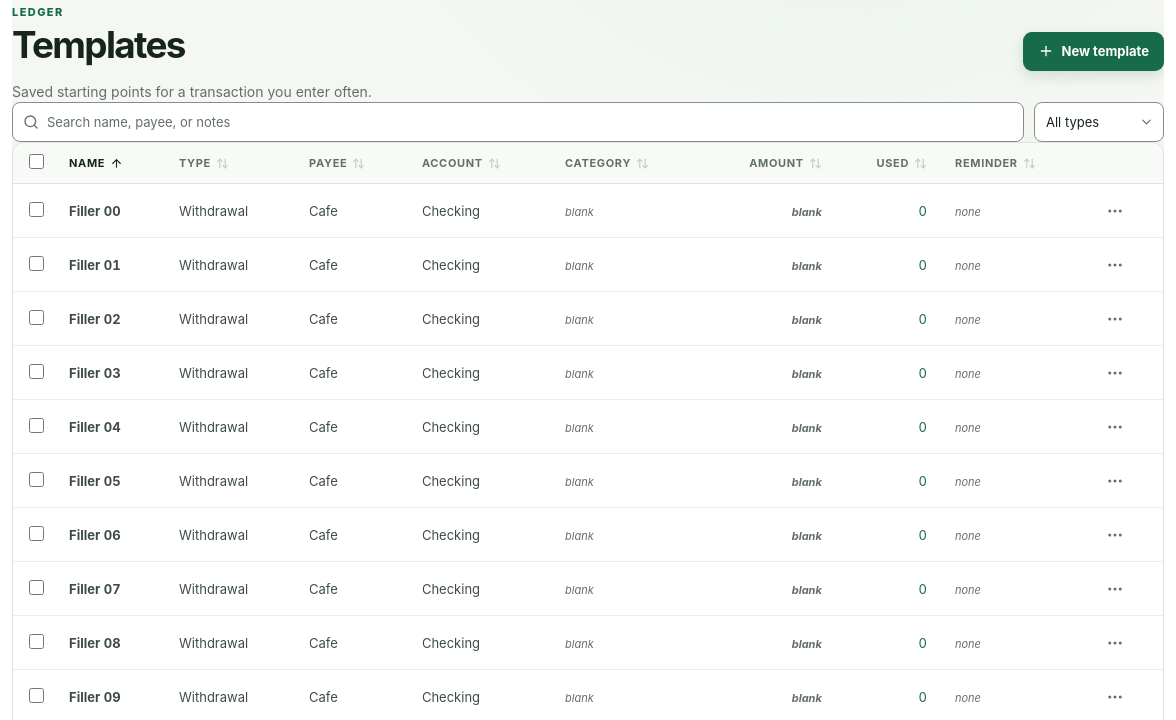
Test case: the templates screen › selects every matching template, not only the ones on this page
The width and height of the screenshot is (1176, 720).
Expected: the heading "Templates" is shown, [12,26,185,65]
Expected: the text "Filler 00" is shown, [69,203,120,219]
What coordinates should you click on to do the following:
click the checkbox named "Select Filler 00"
I would click on:
 (36, 209)
Its box is [28,202,44,217].
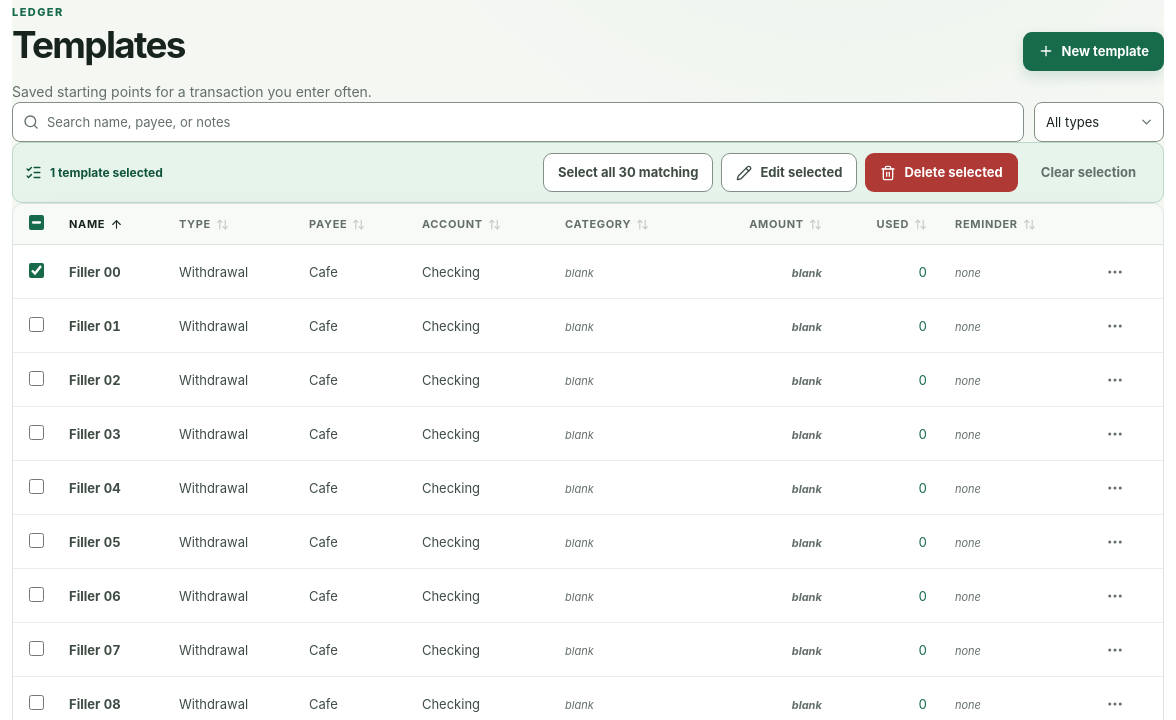
What coordinates should you click on to do the following:
click the button "Select all 30 matching"
I would click on:
 (628, 173)
Its box is [543,153,713,192].
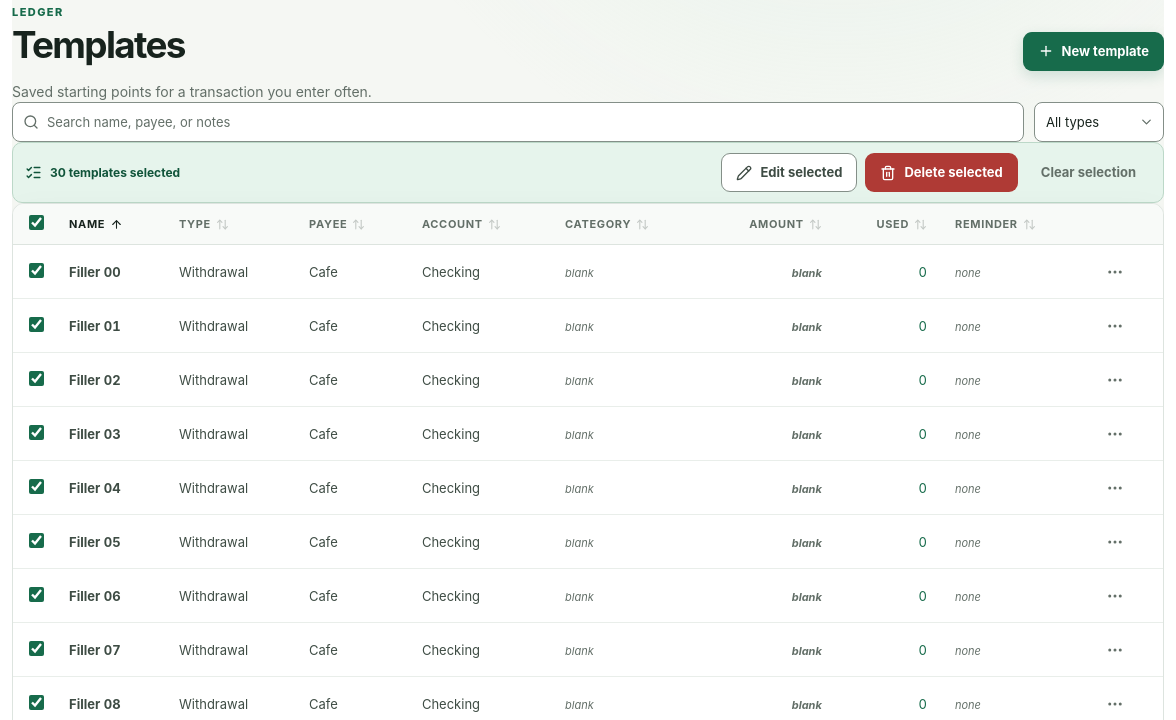
Expected: the text "30 templates selected" is shown, [50,165,180,180]
